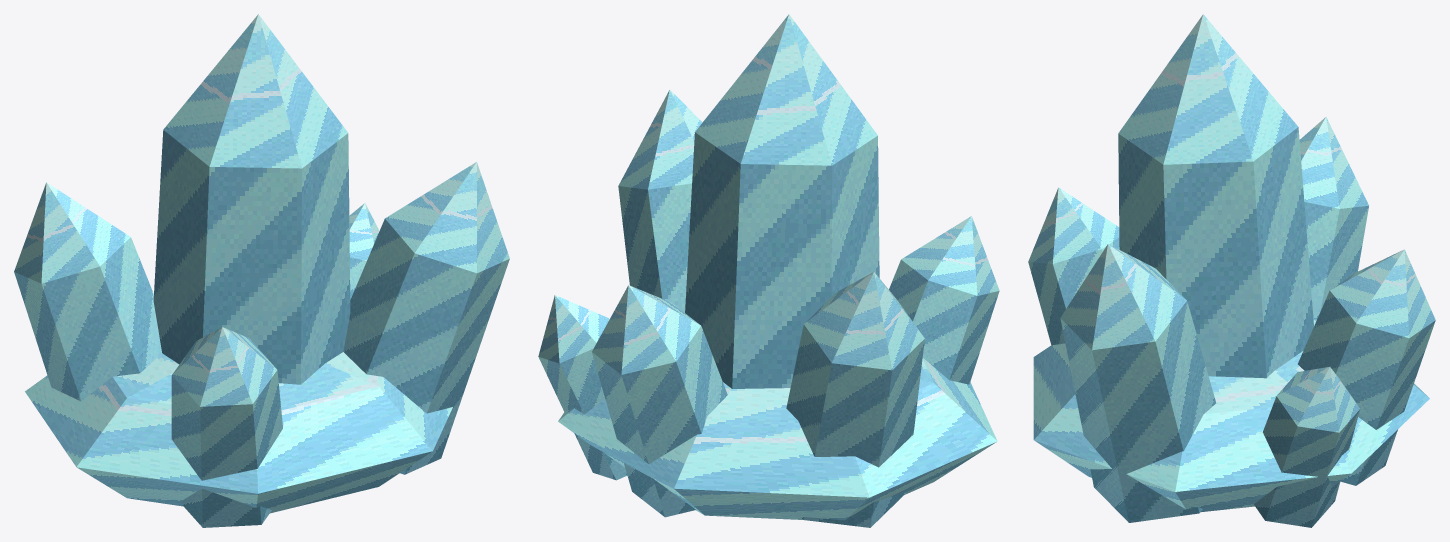
The model's file is ruinas_cristal_de_gelo.glb.
3 renders of one model, left to right at view 1: azimuth 30°, elevation 25°; view 2: azimuth 150°, elevation 25°; view 3: azimuth 270°, elevation 25°, orthographic. The views are drawn at different scales.
Visible parts, largest first — view 1: ruinas_cristal_de_gelo; view 2: ruinas_cristal_de_gelo; view 3: ruinas_cristal_de_gelo.
Boxes of the visible parts, x1,y1,x2,y2 form: ruinas_cristal_de_gelo: [14, 14, 509, 527]; ruinas_cristal_de_gelo: [538, 14, 999, 527]; ruinas_cristal_de_gelo: [1028, 14, 1435, 527].
Size of the model in its own units: 1.21 by 1.36 by 1.11.
1 material, 1 textured.
